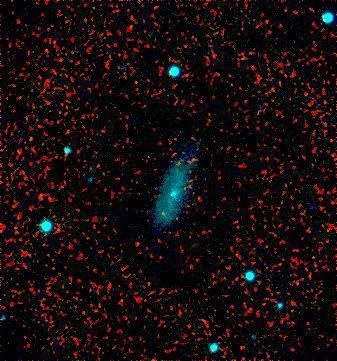star: (132, 140, 162, 170)
